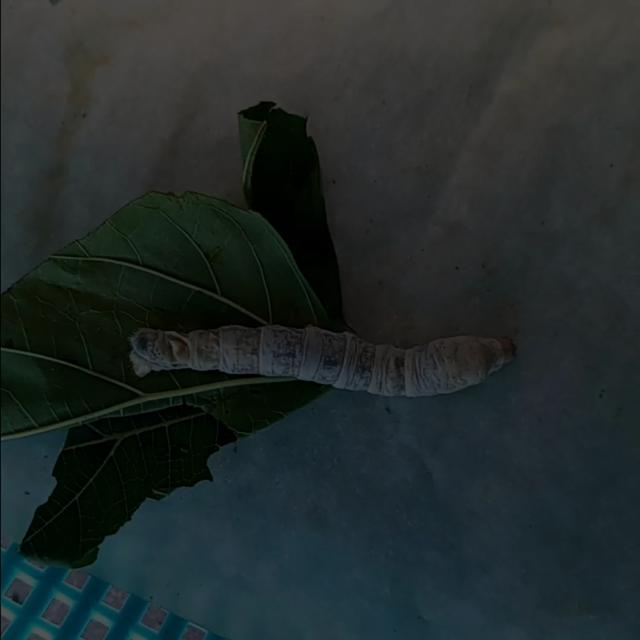Grasserie: (115, 286, 535, 419)
